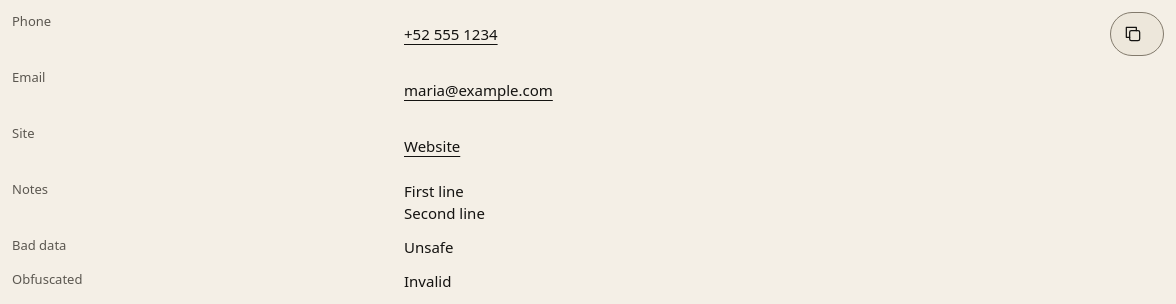
Test: renders canonical labels, multiline values, optional copying and safe links
expect the number of links is 3: met, box [404,24,498,44]; [404,80,553,100]; [404,136,460,156]
Click the button named "Copy Phone" at (1137, 34), box [1110,12,1164,56]
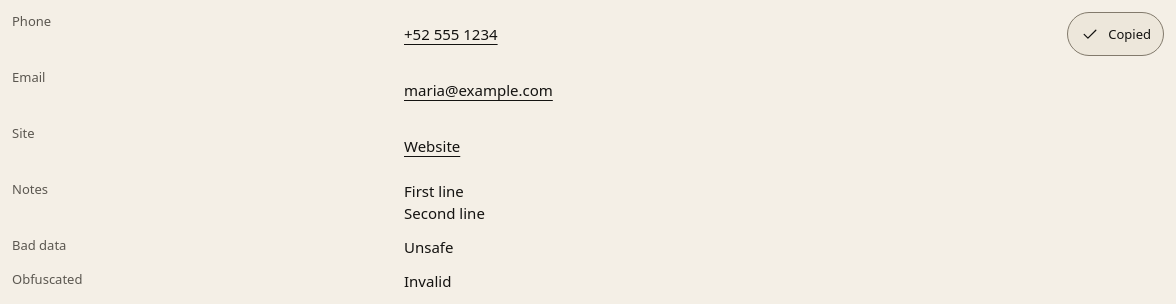
expect the message reads "Copied": met, box [1108,25,1151,43]
